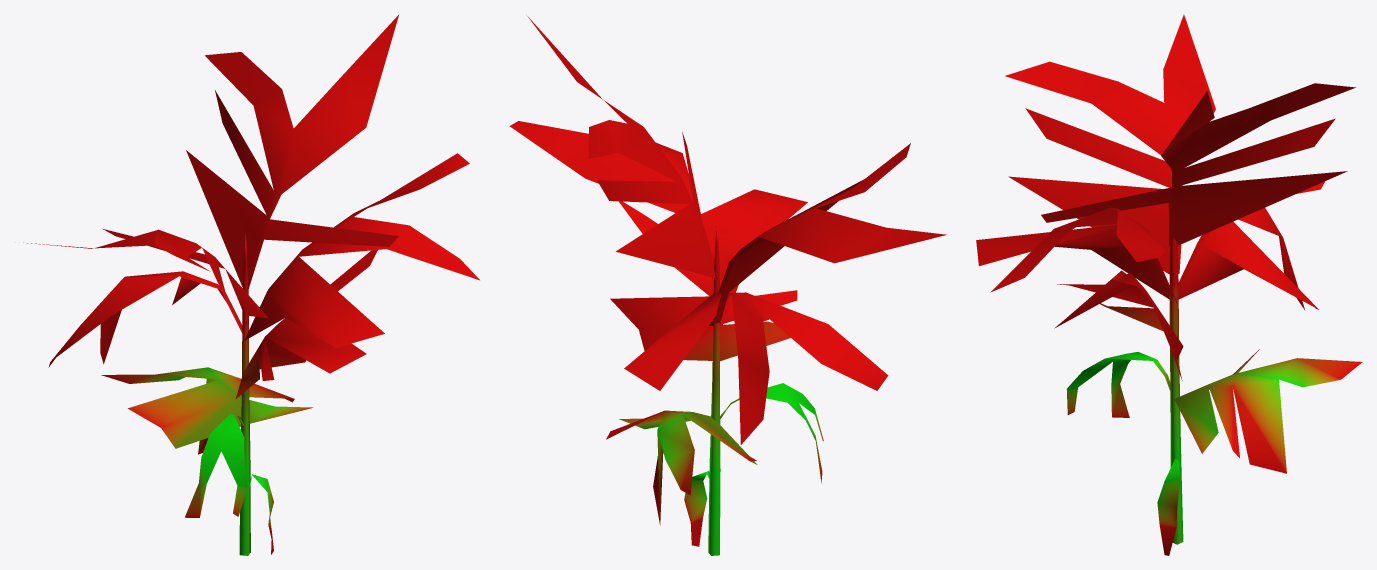
The model's file is Cane Palm_LOD1_Var5_siBmK.fbx.
3 views of the same model, side by side, from view 1: azimuth 30°, elevation 25°; view 2: azimuth 150°, elevation 25°; view 3: azimuth 270°, elevation 25° (orthographic). The views are drawn at different scales.
Visible parts, largest first — view 1: _ad61_Var5_LOD1; view 2: _ad61_Var5_LOD1; view 3: _ad61_Var5_LOD1.
Part boxes in pixels (left/top/right/bottom): _ad61_Var5_LOD1: left=23, top=15, right=479, bottom=555; _ad61_Var5_LOD1: left=509, top=16, right=946, bottom=555; _ad61_Var5_LOD1: left=976, top=14, right=1362, bottom=555.
Bounding box in the file's own units: 16.72 × 18.07 × 11.63.
